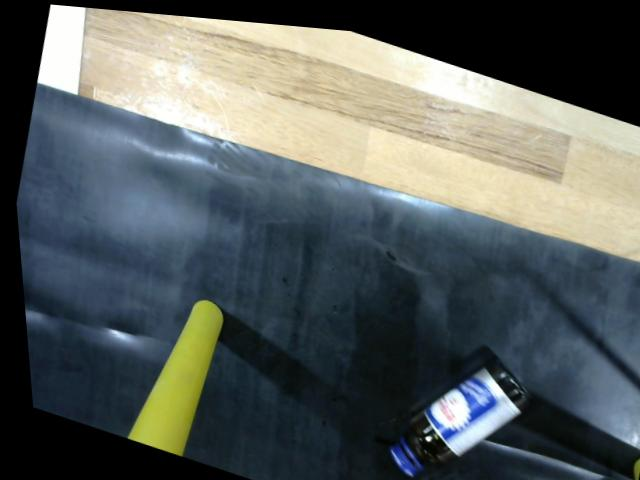glass: (364, 337, 539, 480)
